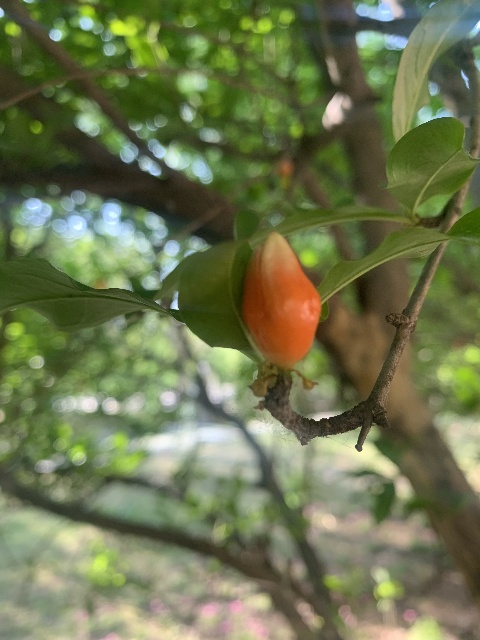bud: (242, 233, 320, 372)
